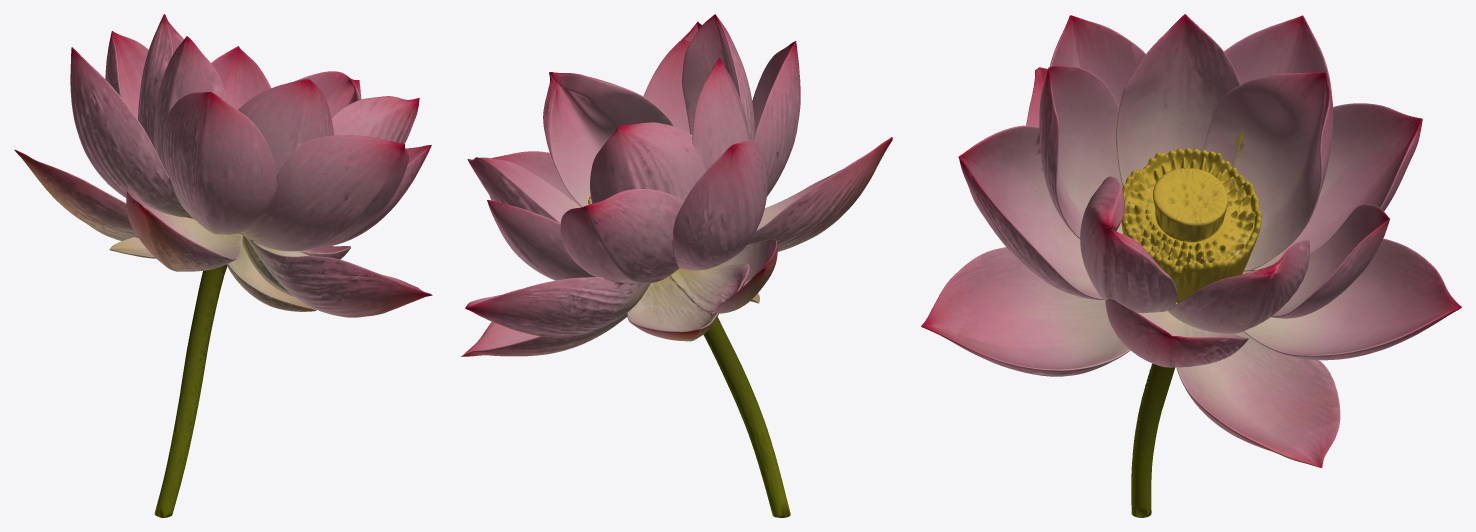
The model's file is sofia-lotus.glb.
3 renders of one model, left to right at view 1: azimuth 30°, elevation 25°; view 2: azimuth 150°, elevation 25°; view 3: azimuth 270°, elevation 25°, orthographic. The views are drawn at different scales.
Visible parts, largest first — view 1: tripo_part_0, tripo_part_4, tripo_part_1, tripo_part_8, tripo_part_17, tripo_part_9, tripo_part_2, tripo_part_12, tripo_part_6, tripo_part_20, tripo_part_26, tripo_part_25 (+3 smaller); view 2: tripo_part_23, tripo_part_26, tripo_part_17, tripo_part_6, tripo_part_8, tripo_part_20, tripo_part_4, tripo_part_9, tripo_part_25, tripo_part_12, tripo_part_2, tripo_part_18 (+4 smaller); view 3: tripo_part_1, tripo_part_13, tripo_part_20, tripo_part_12, tripo_part_16, tripo_part_23, tripo_part_0, tripo_part_2, tripo_part_26, tripo_part_6, tripo_part_18, tripo_part_25 (+5 smaller).
Part boxes in pixels (x1=…): tripo_part_0: x1=234, y1=135, x2=408, y2=251; tripo_part_4: x1=161, y1=92, x2=276, y2=234; tripo_part_1: x1=226, y1=236, x2=432, y2=317; tripo_part_8: x1=14, y1=149, x2=242, y2=271; tripo_part_17: x1=70, y1=47, x2=182, y2=216; tripo_part_9: x1=154, y1=264, x2=227, y2=517; tripo_part_2: x1=238, y1=79, x2=333, y2=175; tripo_part_12: x1=151, y1=36, x2=228, y2=163; tripo_part_6: x1=331, y1=96, x2=419, y2=143; tripo_part_20: x1=138, y1=14, x2=183, y2=145; tripo_part_26: x1=105, y1=31, x2=148, y2=119; tripo_part_25: x1=211, y1=46, x2=270, y2=109; tripo_part_23: x1=465, y1=263, x2=759, y2=341; tripo_part_26: x1=560, y1=188, x2=684, y2=283; tripo_part_17: x1=668, y1=140, x2=767, y2=272; tripo_part_6: x1=543, y1=72, x2=673, y2=207; tripo_part_8: x1=731, y1=137, x2=892, y2=311; tripo_part_20: x1=590, y1=122, x2=705, y2=203; tripo_part_4: x1=752, y1=41, x2=800, y2=196; tripo_part_9: x1=703, y1=317, x2=790, y2=517; tripo_part_25: x1=487, y1=200, x2=595, y2=280; tripo_part_12: x1=687, y1=58, x2=750, y2=171; tripo_part_2: x1=682, y1=14, x2=754, y2=140; tripo_part_18: x1=467, y1=157, x2=580, y2=223; tripo_part_1: x1=921, y1=247, x2=1130, y2=376; tripo_part_13: x1=1121, y1=148, x2=1264, y2=304; tripo_part_20: x1=1203, y1=72, x2=1333, y2=269; tripo_part_12: x1=1117, y1=14, x2=1281, y2=184; tripo_part_16: x1=1176, y1=331, x2=1340, y2=467; tripo_part_23: x1=1243, y1=238, x2=1461, y2=360; tripo_part_0: x1=958, y1=125, x2=1103, y2=299; tripo_part_2: x1=1037, y1=65, x2=1122, y2=238; tripo_part_26: x1=1257, y1=103, x2=1422, y2=268; tripo_part_6: x1=1080, y1=176, x2=1186, y2=323; tripo_part_18: x1=1172, y1=240, x2=1309, y2=333; tripo_part_25: x1=1270, y1=204, x2=1389, y2=318.
Size of the model in its own units: 0.8017 by 1 by 0.9366.
Materials: 27 (27 with a texture image).
